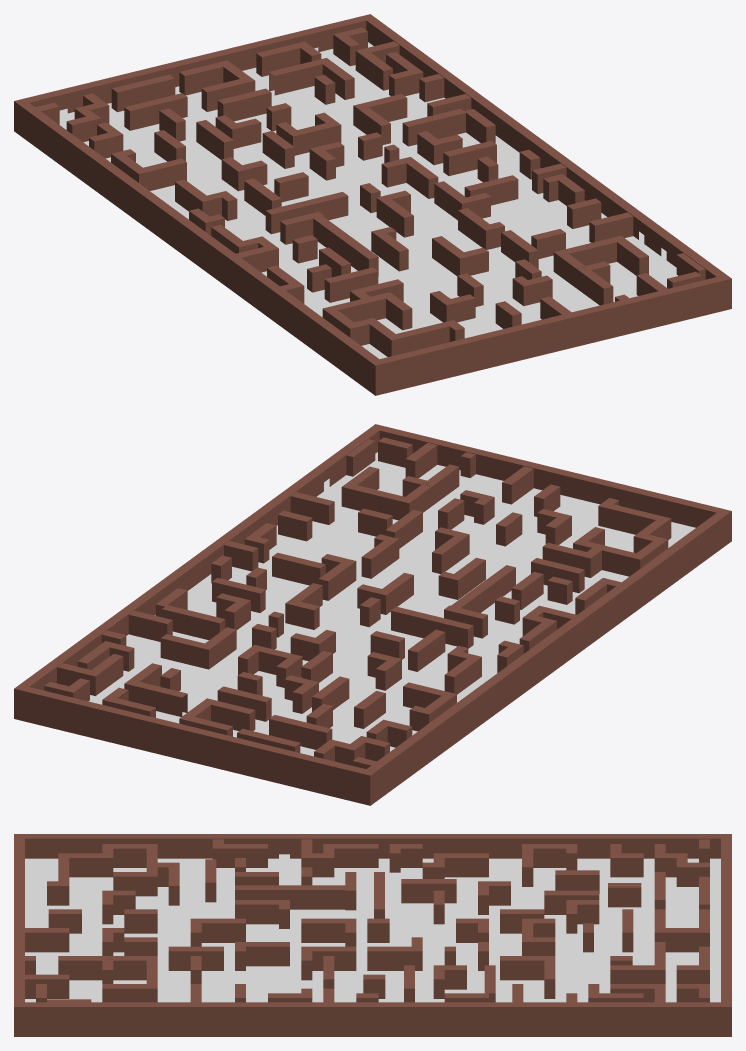
File: MazeEasy.fbx
The picture shows the model from 3 angles, top to bottom: view 1: azimuth 30°, elevation 25°; view 2: azimuth 150°, elevation 25°; view 3: azimuth 270°, elevation 25°; orthographic projection.
Visible parts, largest first — view 1: Corners, Floor, Walls.047, Walls.139, Walls.074, Walls.122, Walls.083, Walls.189, Walls.081, Walls.015, Walls.011, Walls.051 (+49 smaller); view 2: Corners, Floor, Walls.139, Walls.047, Walls.210, Walls.083, Walls.122, Walls.081, Walls.162, Walls.185, Walls.189, Walls.054 (+44 smaller); view 3: Floor, Corners, Walls.047, Walls.114, Walls.055, Walls.073, Walls.050, Walls.045, Walls.013, Walls.056, Walls.054, Walls.061 (+68 smaller).
Part boxes in pixels (x1,y1,x2,y2): Corners: (14, 14, 731, 395); Floor: (59, 42, 677, 359); Walls.047: (313, 216, 378, 276); Walls.139: (265, 192, 348, 234); Walls.074: (111, 74, 175, 112); Walls.122: (402, 109, 465, 146); Walls.083: (124, 93, 187, 130); Walls.189: (386, 322, 449, 356); Walls.081: (269, 60, 322, 95); Walls.015: (217, 88, 271, 121); Walls.011: (443, 140, 496, 175); Walls.051: (324, 267, 378, 302); Corners: (14, 424, 731, 805); Floor: (88, 452, 695, 756); Walls.139: (391, 606, 473, 648); Walls.047: (451, 565, 515, 612); Walls.210: (341, 483, 404, 520); Walls.083: (269, 715, 332, 749); Walls.122: (162, 605, 225, 640); Walls.081: (134, 682, 187, 716); Walls.162: (272, 552, 325, 585); Walls.185: (573, 539, 645, 576); Walls.189: (608, 504, 671, 539); Walls.054: (361, 536, 399, 578); Floor: (25, 854, 720, 1002); Corners: (14, 834, 731, 1036); Walls.047: (235, 885, 345, 909); Walls.114: (401, 879, 456, 903); Walls.055: (168, 946, 223, 970); Walls.073: (654, 928, 709, 952); Walls.050: (212, 844, 267, 867); Walls.045: (301, 918, 356, 942); Walls.013: (500, 956, 555, 980); Walls.056: (190, 918, 245, 942); Walls.054: (235, 942, 289, 966); Walls.061: (25, 928, 69, 952).
Bounding box in the file's own units: 7400 × 600 × 13000.
